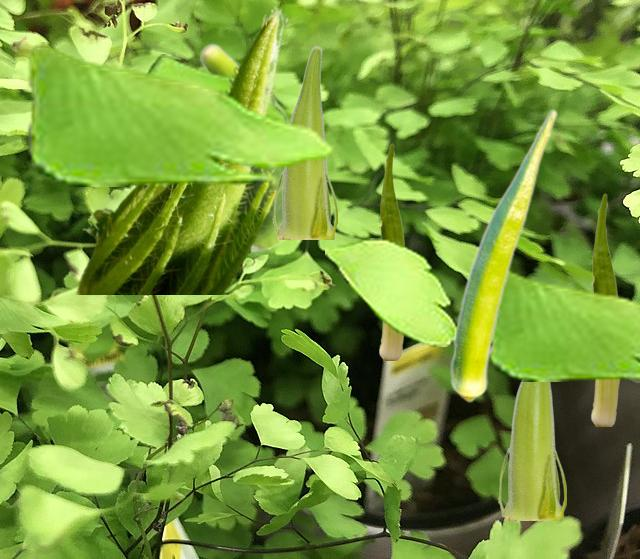okra: (73, 5, 288, 293), (450, 108, 557, 402), (198, 42, 288, 252), (272, 45, 336, 238), (497, 381, 565, 519), (591, 193, 620, 425), (379, 143, 405, 359)
